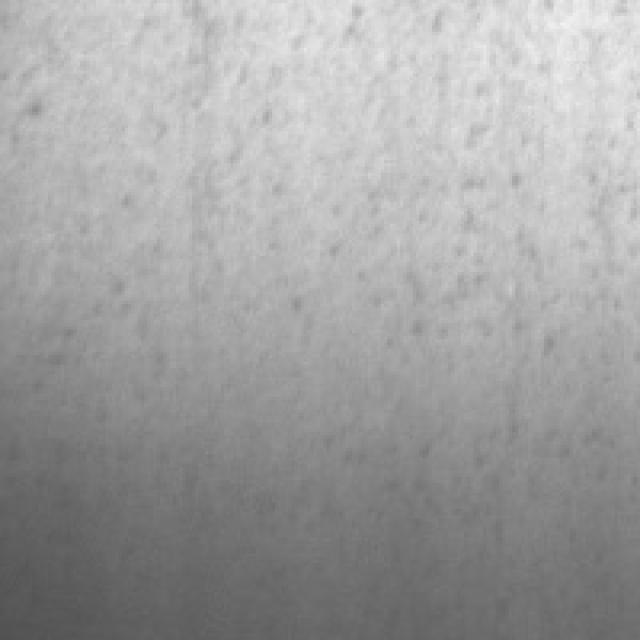pitted_surface: (3, 0, 602, 637)
